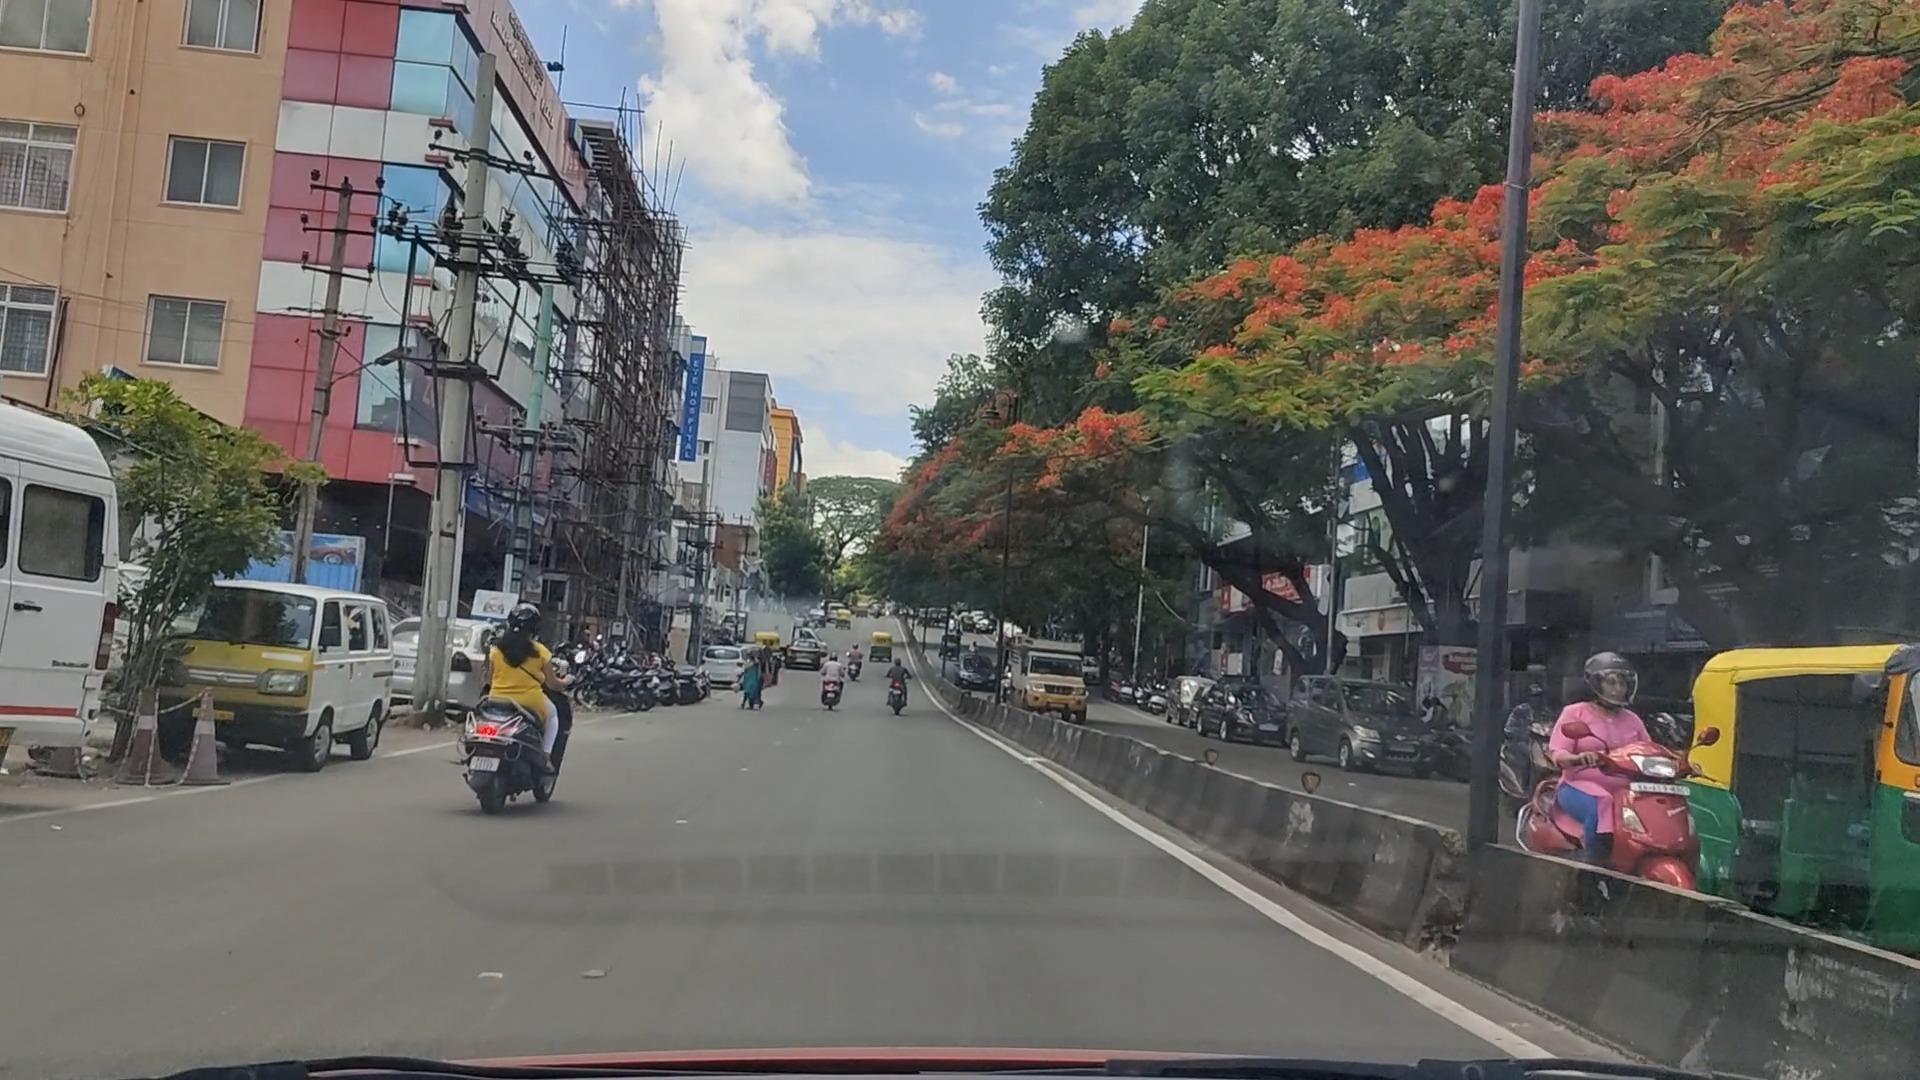LMV: (465, 580, 595, 811)
